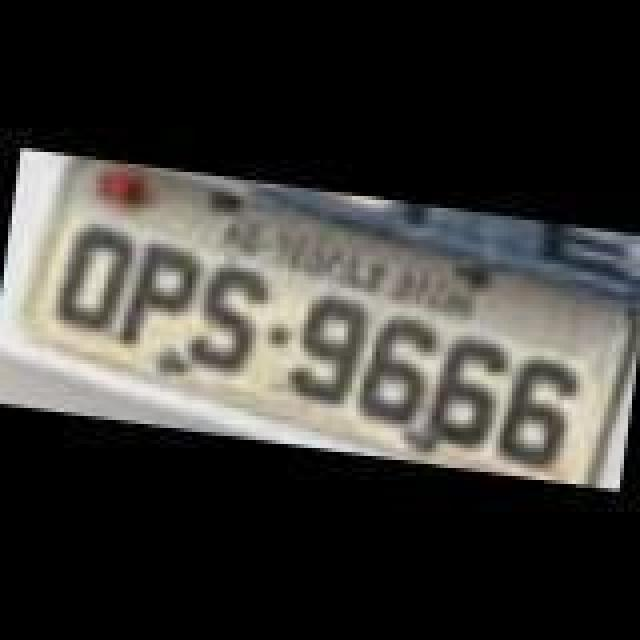6: (488, 352, 584, 472), (422, 334, 514, 458), (348, 304, 436, 432)
9: (284, 288, 380, 416)
O: (42, 220, 134, 340)
P: (114, 242, 206, 358)
S: (172, 256, 276, 384)
